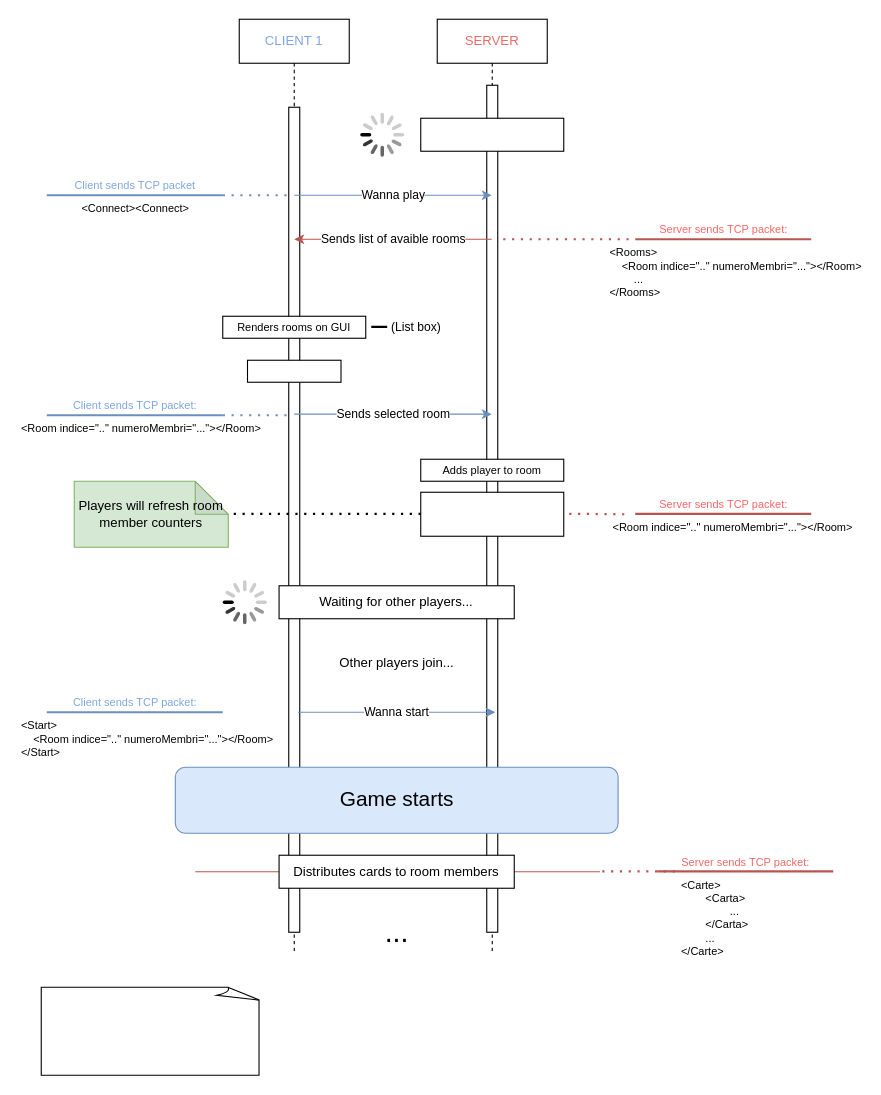
The diagram is 881 pixels wide and 1095 high, and some of its shapes have lost their labels. The box of each missing label's shape, as (x1, y1, x2, y2) in pixels:
Notifies all room members a new player joined: (420, 491, 564, 536)
Selects room: (246, 359, 341, 382)
TO DO: - Game sequence diagram -Creating room sequence diagram: (40, 986, 261, 1075)
Waiting for players...: (420, 117, 564, 151)
